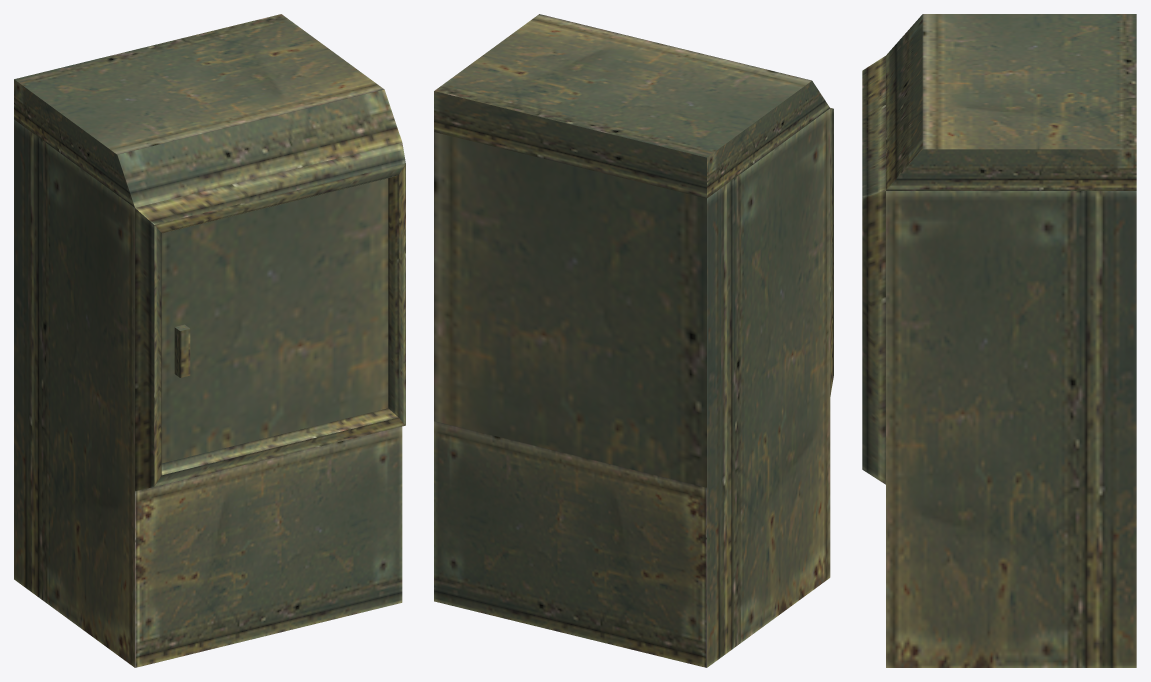
The picture shows the model from 3 angles, left to right: view 1: azimuth 30°, elevation 25°; view 2: azimuth 150°, elevation 25°; view 3: azimuth 270°, elevation 25°; orthographic projection. The views are drawn at different scales.
Parts seen in each view (by area): view 1: Box_08; view 2: Box_08; view 3: Box_08.
Part boxes in pixels (x1=…): Box_08: x1=14, y1=14, x2=405, y2=667; Box_08: x1=434, y1=14, x2=833, y2=667; Box_08: x1=862, y1=14, x2=1136, y2=667.
Bounding box in the file's own units: 128 × 228 × 109.
